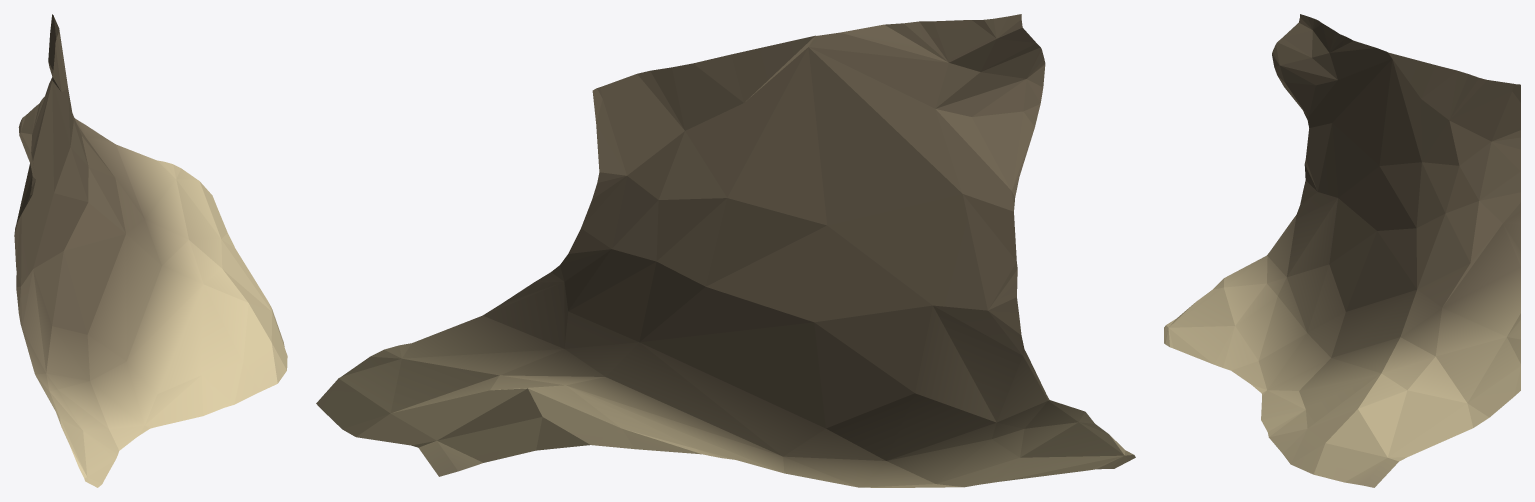
File: bisect-4-3-3.gltf
The picture shows the model from 3 angles, left to right: view 1: azimuth 30°, elevation 25°; view 2: azimuth 150°, elevation 25°; view 3: azimuth 270°, elevation 25°; orthographic projection. The views are drawn at different scales.
Parts seen in each view (by area): view 1: bisect-4-3-3; view 2: bisect-4-3-3; view 3: bisect-4-3-3.
Part boxes in pixels (x1=…): bisect-4-3-3: x1=14, y1=14, x2=287, y2=487; bisect-4-3-3: x1=316, y1=14, x2=1135, y2=487; bisect-4-3-3: x1=1164, y1=14, x2=1520, y2=487.
Size of the model in its own units: 20 by 20 by 20.
